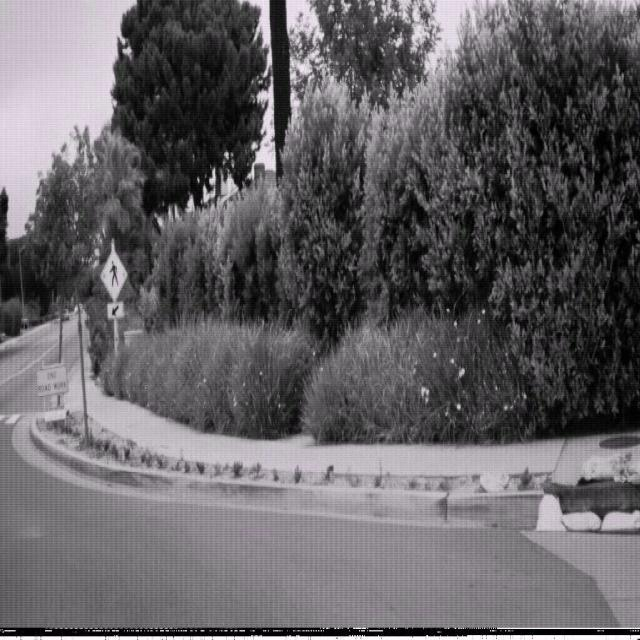pedestrianCrossing: (100, 245, 128, 303)
